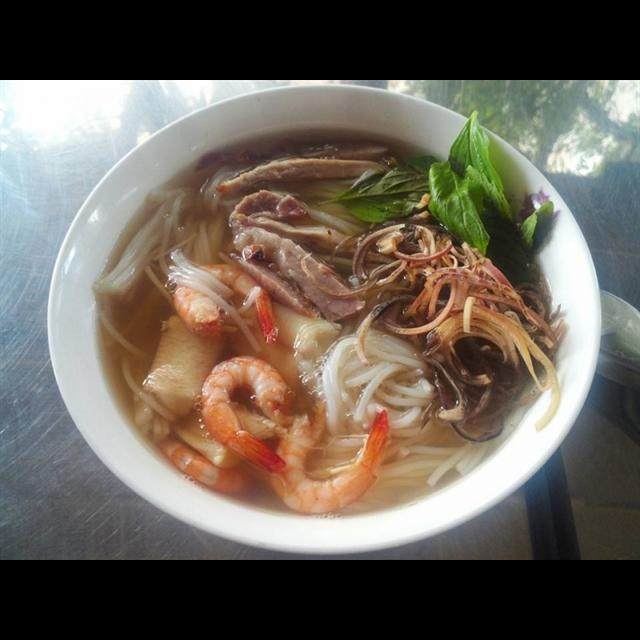bun: (308, 317, 494, 502), (83, 159, 237, 309)
ca: (213, 287, 347, 390), (139, 303, 234, 421)
thit heo quay: (216, 221, 374, 323), (230, 183, 382, 262), (211, 149, 397, 196)
tom: (263, 393, 397, 517), (197, 348, 300, 478), (169, 259, 282, 348), (151, 428, 255, 500)
